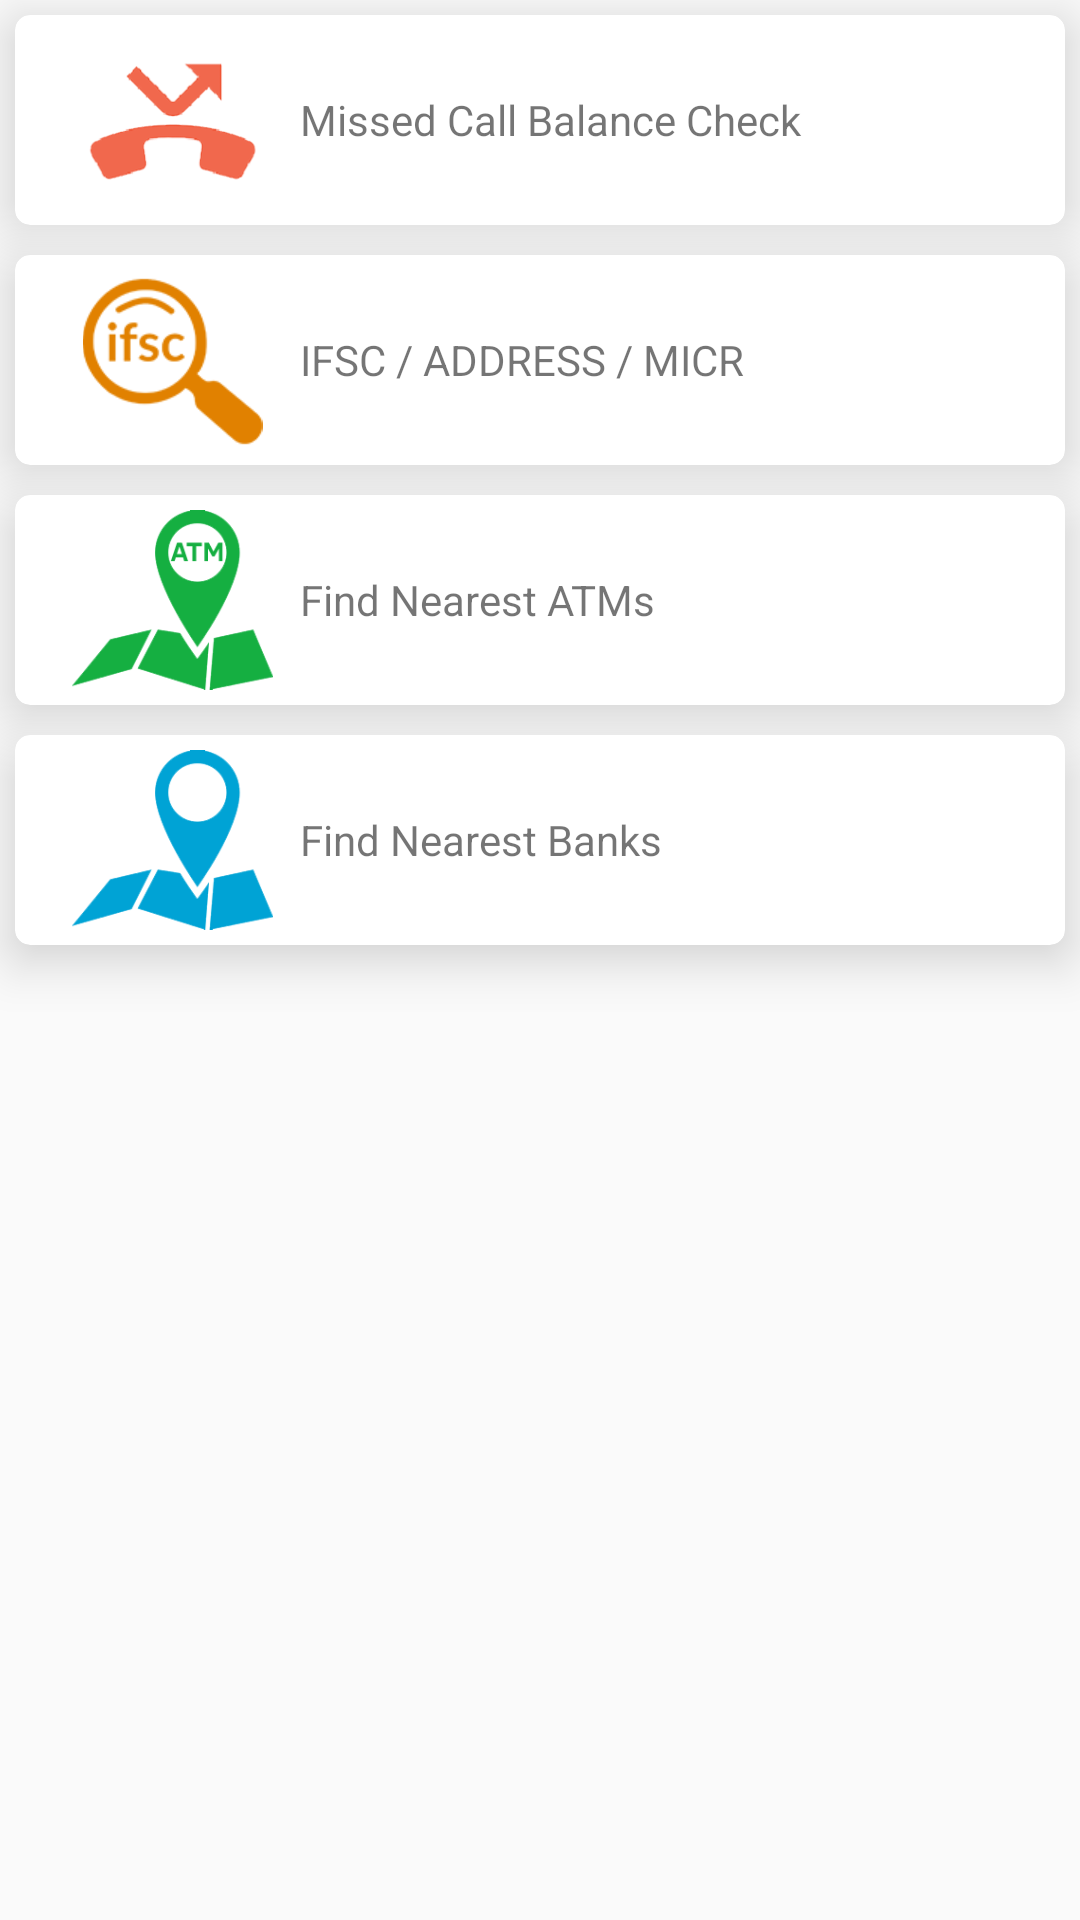

Screen size 1080px x 1920px. Icon name, then its box in pixels as (x1, y1, x2, y2):
find atm: (72, 510, 273, 690)
find bank: (72, 750, 273, 930)
